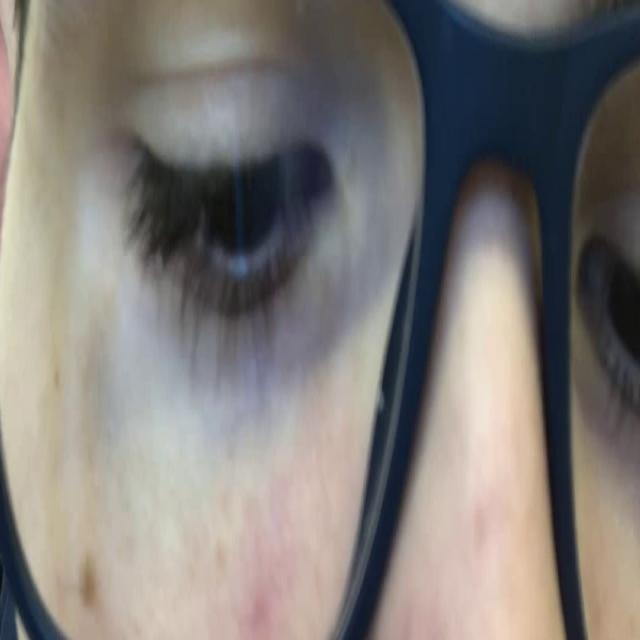eye: (145, 68, 330, 286)
gaze: (207, 146, 284, 264)
